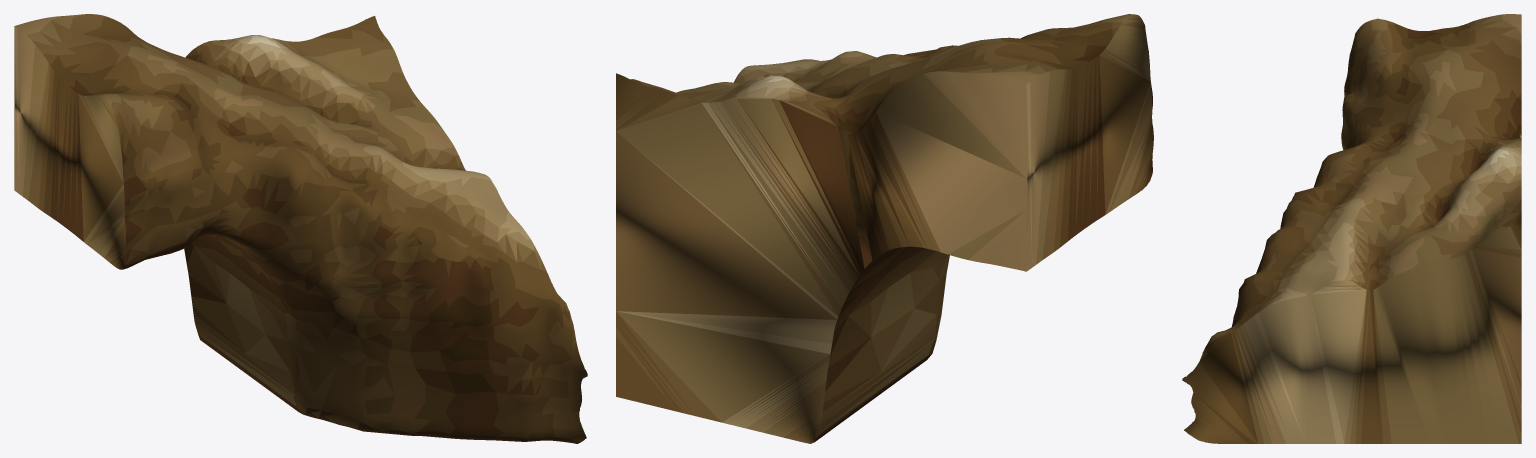
File: rock_arch_279.glb
3 renders of one model, left to right at view 1: azimuth 30°, elevation 25°; view 2: azimuth 150°, elevation 25°; view 3: azimuth 270°, elevation 25°, orthographic. The views are drawn at different scales.
Parts seen in each view (by area): view 1: rock_arch_279; view 2: rock_arch_279; view 3: rock_arch_279.
Part boxes in pixels (x1,y1,x2,y2): rock_arch_279: (14,14,587,443); rock_arch_279: (616,14,1153,443); rock_arch_279: (1182,14,1521,443).
Size of the model in its own units: 24 by 23.1 by 24.51.
